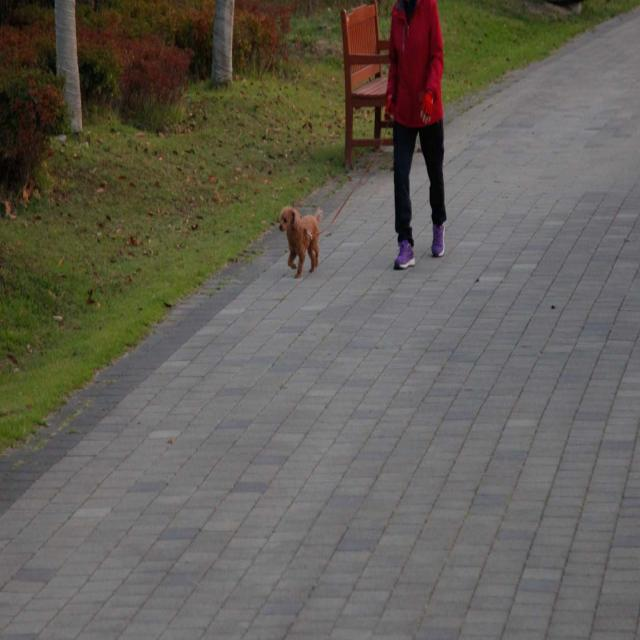Leashed_Dog: (279, 102, 401, 278)
